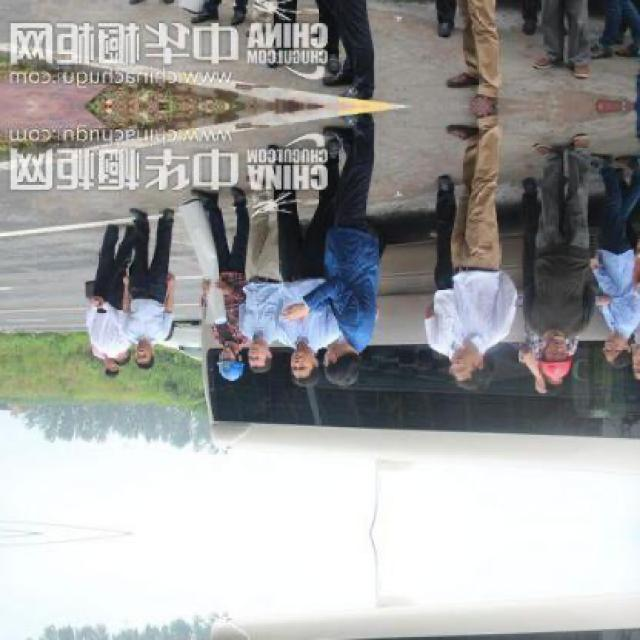con casco: (422, 334, 526, 394), (192, 334, 247, 383), (538, 331, 576, 387)
